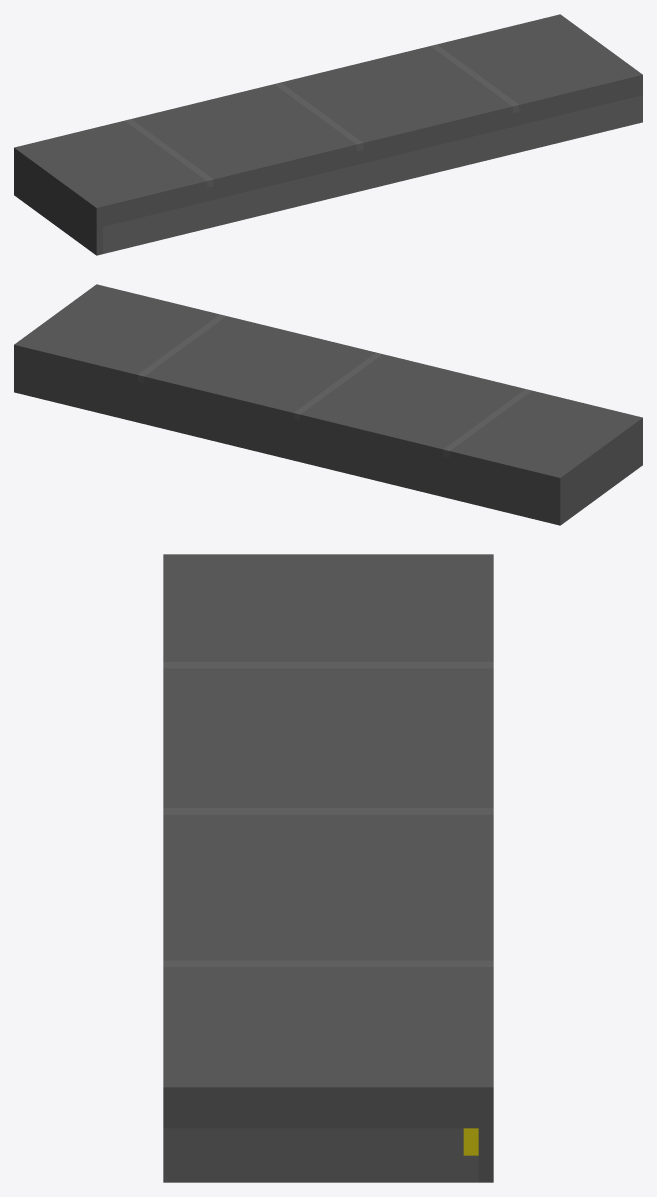
File: Bereda.obj
The picture shows the model from 3 angles, top to bottom: view 1: azimuth 30°, elevation 25°; view 2: azimuth 150°, elevation 25°; view 3: azimuth 270°, elevation 25°; orthographic projection. The views are drawn at different scales.
Bounding box in the file's own units: 8.4 × 0.7 × 2.2.
1 material, 1 textured.
